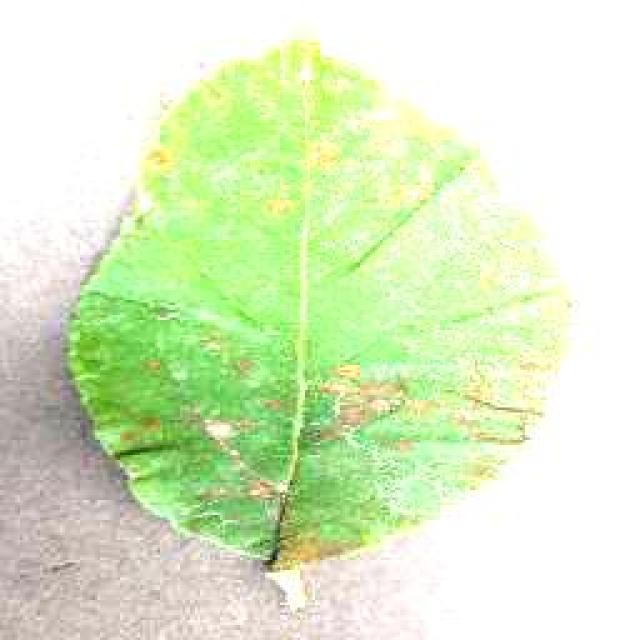apple cedar apple rust: (60, 35, 575, 575)
